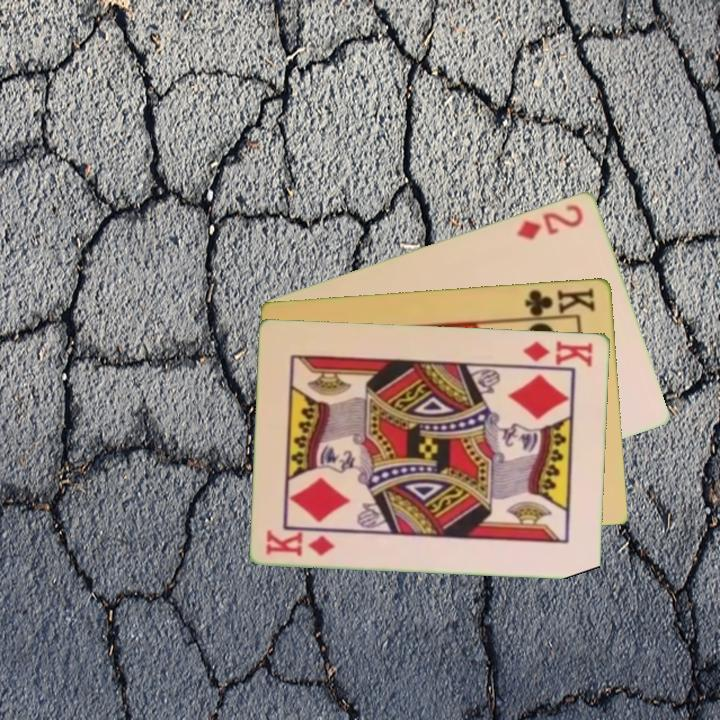2d: (513, 200, 587, 242)
Kc: (519, 284, 598, 321)
Kd: (515, 337, 596, 369), (262, 527, 338, 559)
